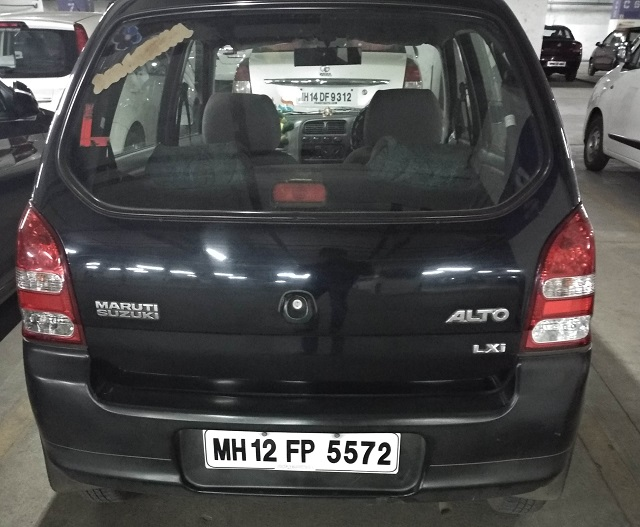licenseplate: (202, 427, 405, 480)
